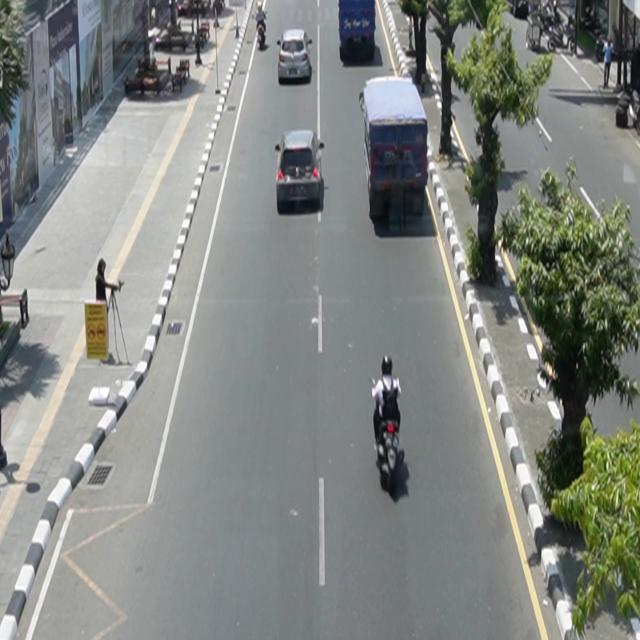car: (275, 130, 326, 214), (278, 29, 314, 84)
